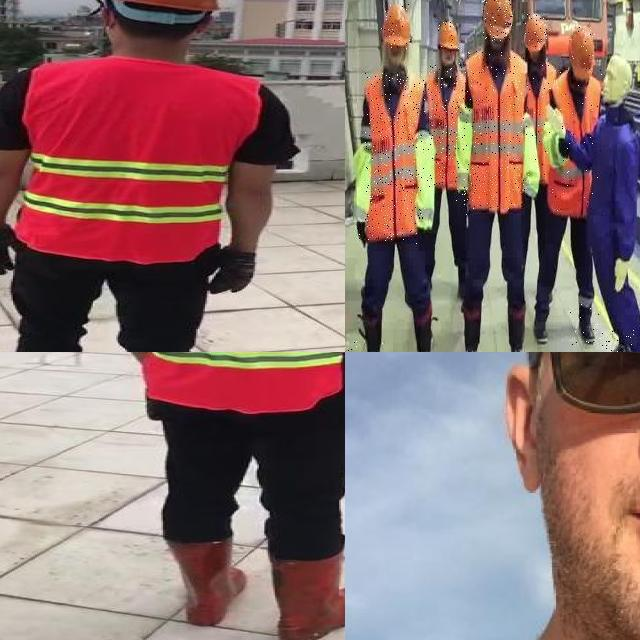No_Ear-Protection: (502, 360, 548, 496)
boots: (162, 534, 248, 629), (269, 554, 345, 640), (569, 304, 602, 350), (596, 330, 634, 352)
face_nomask: (547, 352, 640, 573)
glasses: (522, 352, 640, 437)
hand_glove: (208, 251, 254, 294), (0, 231, 25, 274)
head_helmet: (95, 0, 223, 14), (569, 26, 595, 84), (381, 5, 411, 50), (482, 0, 513, 41), (523, 14, 547, 54), (437, 21, 459, 54)
person: (0, 0, 302, 352), (70, 352, 345, 640)
vest: (22, 59, 256, 259), (99, 352, 345, 413), (365, 72, 425, 242), (466, 50, 526, 212), (550, 69, 602, 219), (427, 63, 467, 187), (525, 62, 555, 182)
